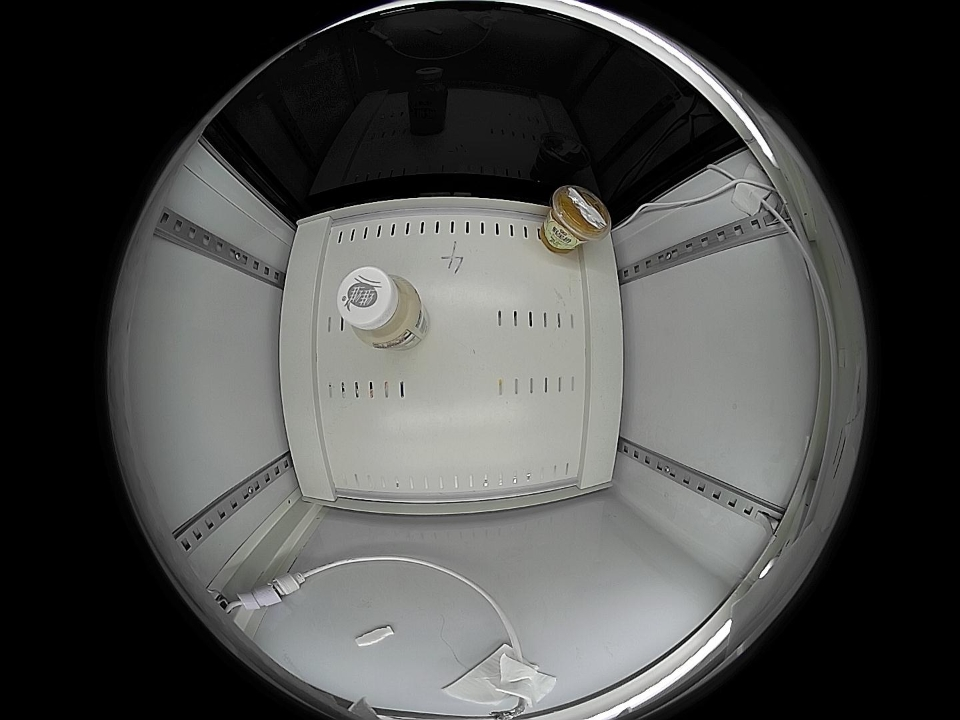weiweidounai: (337, 267, 421, 347)
xianguolao: (549, 185, 612, 245)
